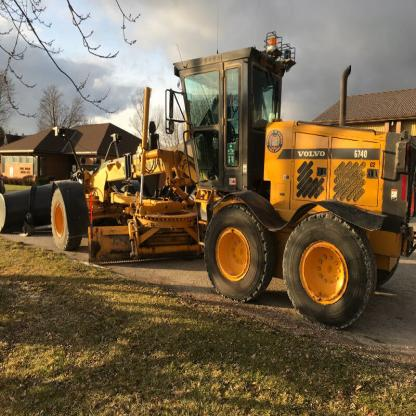bull_dozer/loader/grader: (44, 37, 413, 326)
